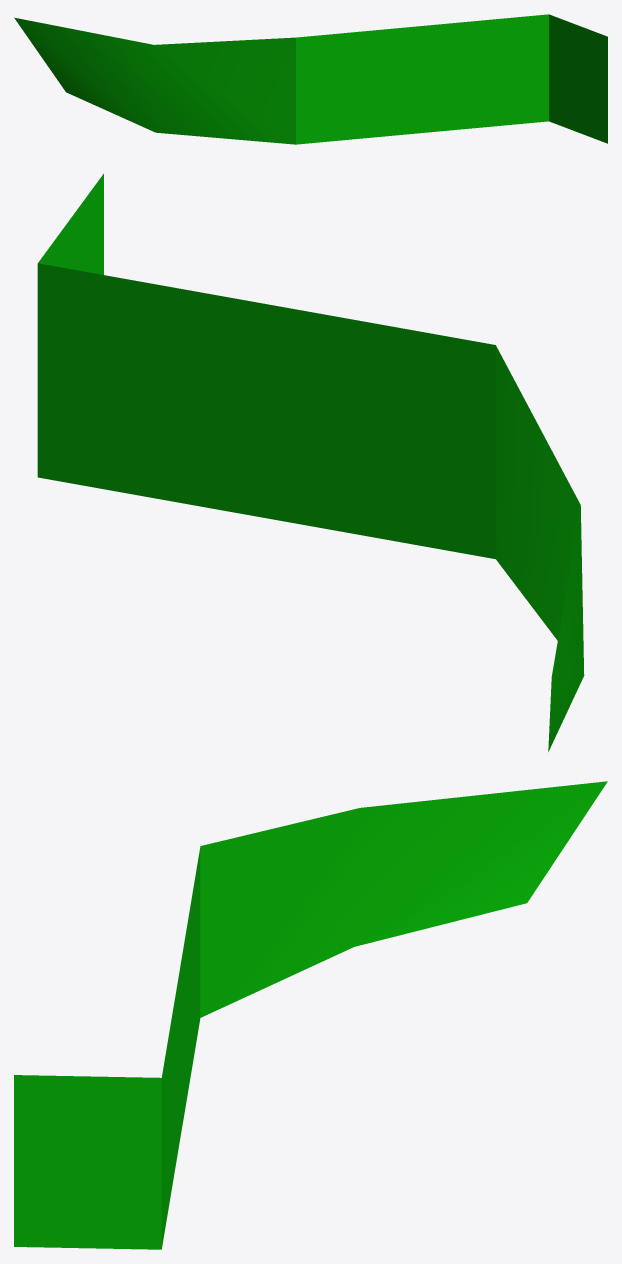
Rendered from M8_Idiot_Stopper_03.glb.
3 views of the same model, one above another, from view 1: azimuth 30°, elevation 25°; view 2: azimuth 150°, elevation 25°; view 3: azimuth 270°, elevation 25° (orthographic). The views are drawn at different scales.
Visible parts, largest first — view 1: M8_IDIOT_STOPPER_03; view 2: M8_IDIOT_STOPPER_03; view 3: M8_IDIOT_STOPPER_03.
Boxes of the visible parts, x1,y1,x2,y2 form: M8_IDIOT_STOPPER_03: (14,14,607,144); M8_IDIOT_STOPPER_03: (37,173,584,751); M8_IDIOT_STOPPER_03: (14,781,607,1249).
Size of the model in its own units: 29.97 by 9.37 by 23.49.
